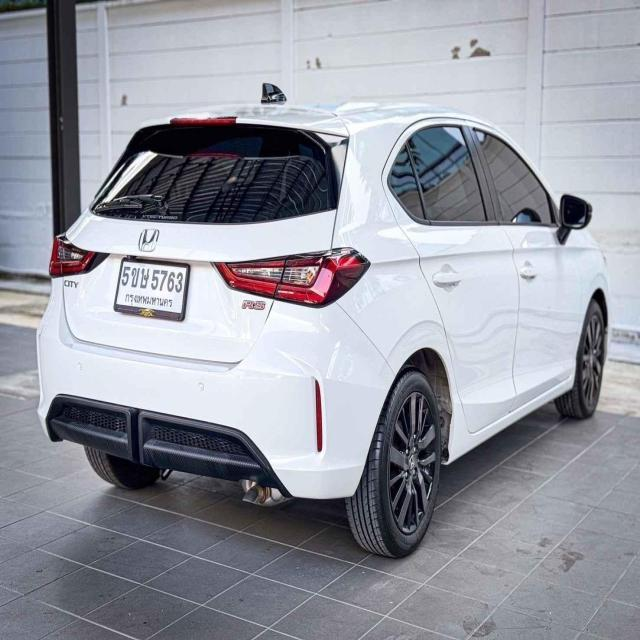Hatchback: (36, 98, 612, 561)
